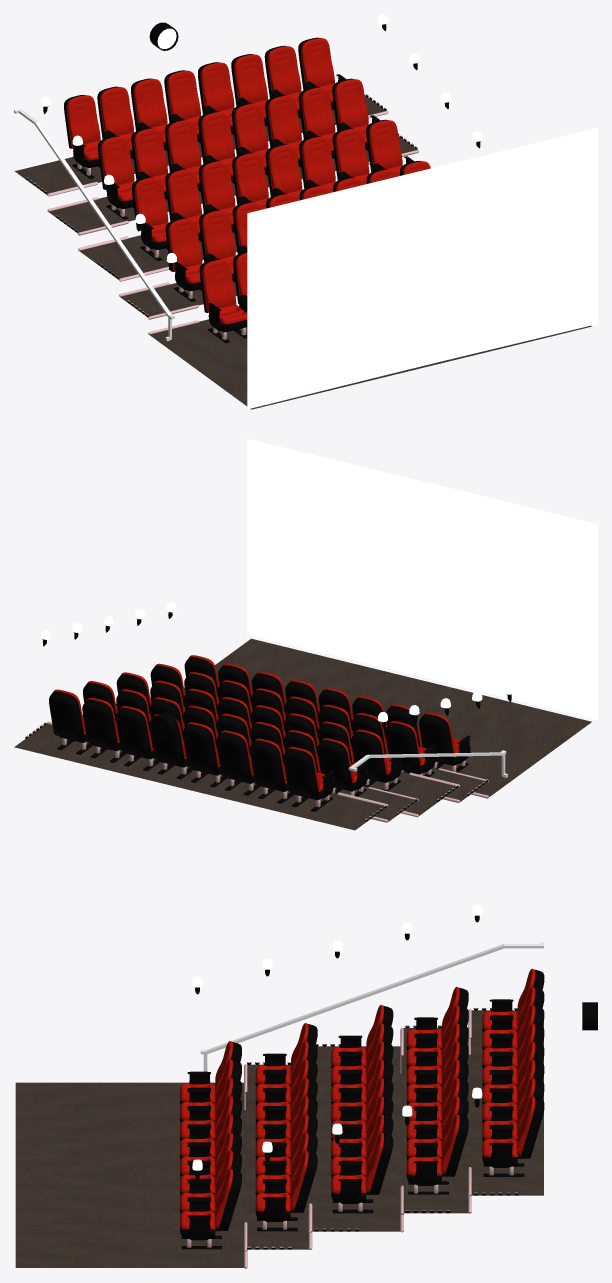
Rendered from theatre.glb.
3 renders of one model, top to bottom at view 1: azimuth 30°, elevation 25°; view 2: azimuth 150°, elevation 25°; view 3: azimuth 270°, elevation 25°, orthographic. The views are drawn at different scales.
Visible parts, largest first — view 1: Plane_8, Cube_6, Cube002_4, Cube001_9, Cylinder001_3; view 2: Plane_8, Cube_6, Cube001_9, Cube002_4, Cylinder001_3; view 3: Cube_6, Plane_8, Cube002_4, Cube001_9, Cube003_5.
Boxes of the visible parts, x1,y1,x2,y2 form: Plane_8: (14, 95, 597, 409); Cube_6: (64, 37, 430, 343); Cube002_4: (14, 109, 174, 341); Cube001_9: (41, 14, 482, 270); Cylinder001_3: (149, 22, 178, 50); Plane_8: (14, 438, 597, 830); Cube_6: (49, 655, 470, 811); Cube001_9: (41, 602, 513, 729); Cube002_4: (348, 750, 507, 777); Cylinder001_3: (149, 712, 178, 740); Cube_6: (180, 968, 544, 1249); Plane_8: (15, 1009, 543, 1268); Cube002_4: (200, 942, 543, 1071); Cube001_9: (192, 904, 482, 1179); Cube003_5: (247, 1008, 518, 1249).
Size of the model in its own units: 12.77 by 6.94 by 16.53.
8 materials, 2 textured.
